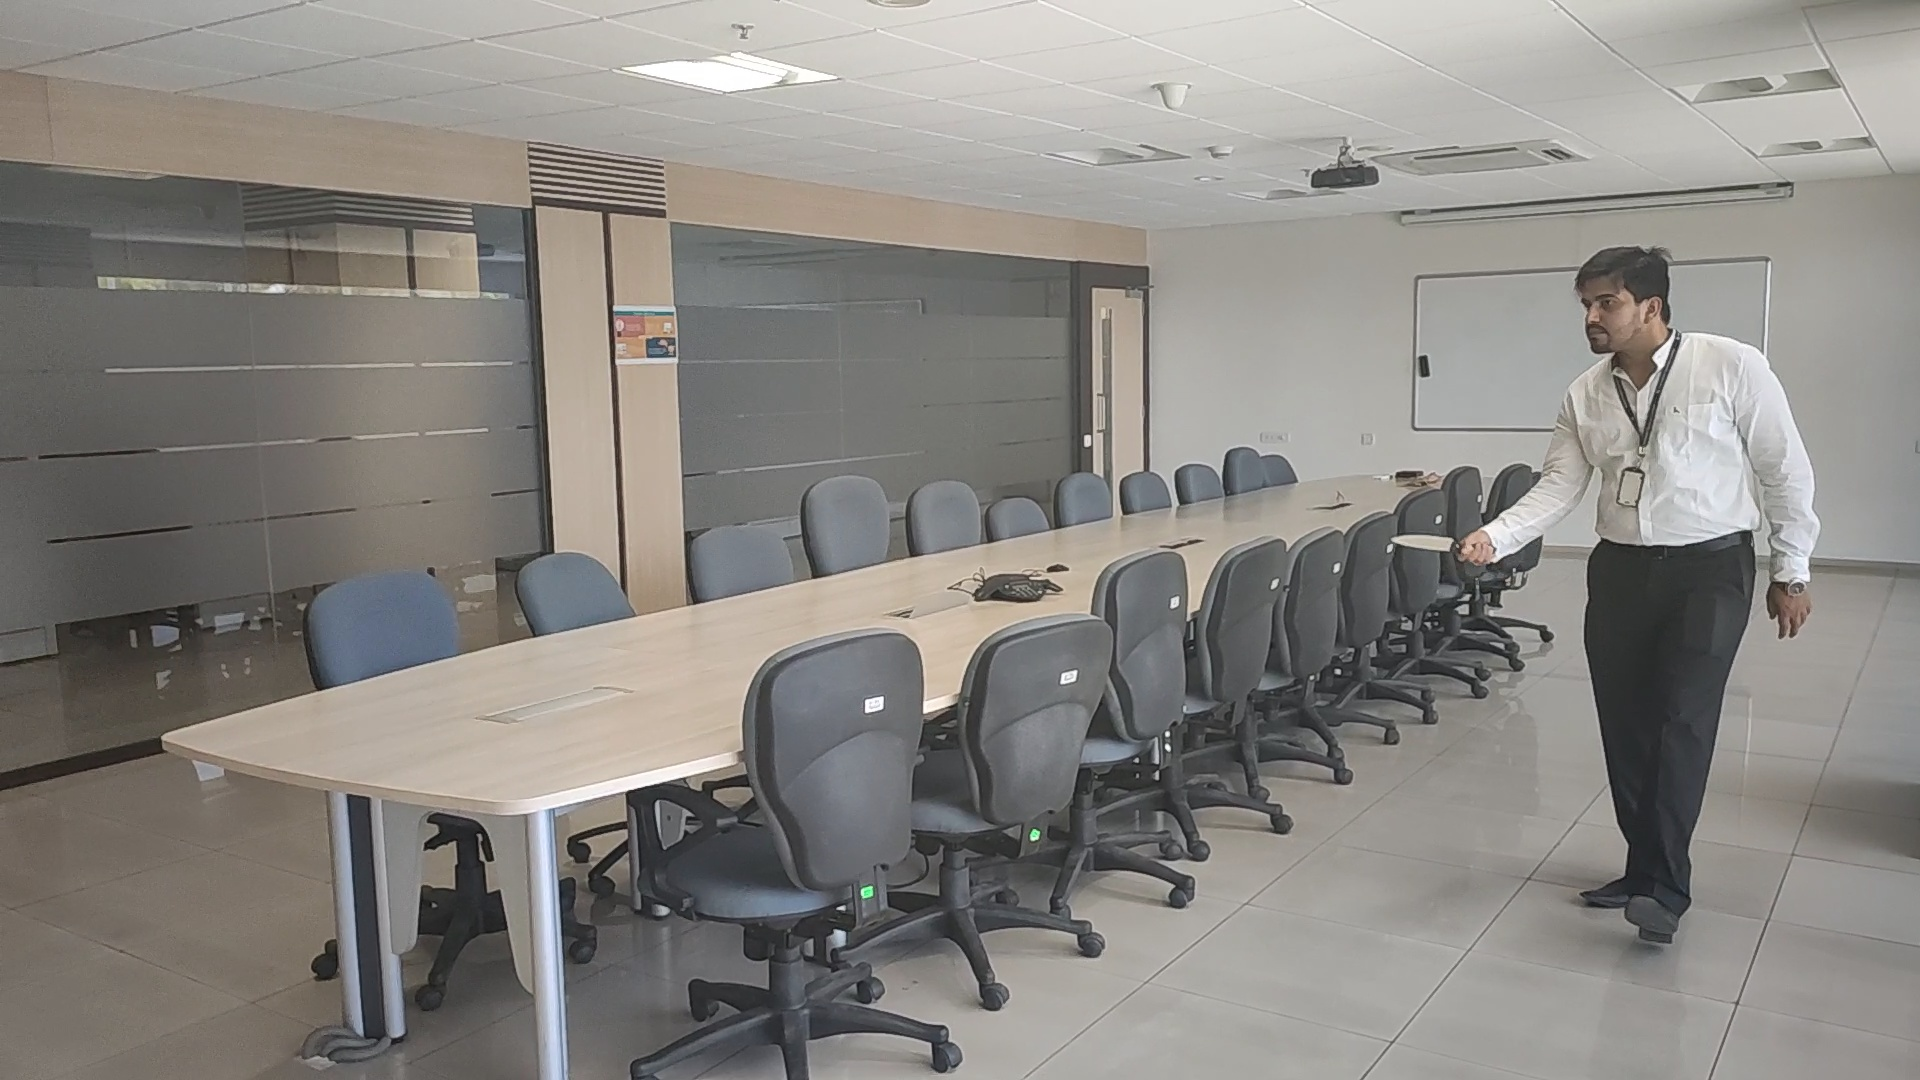knife: (1389, 531, 1455, 555)
